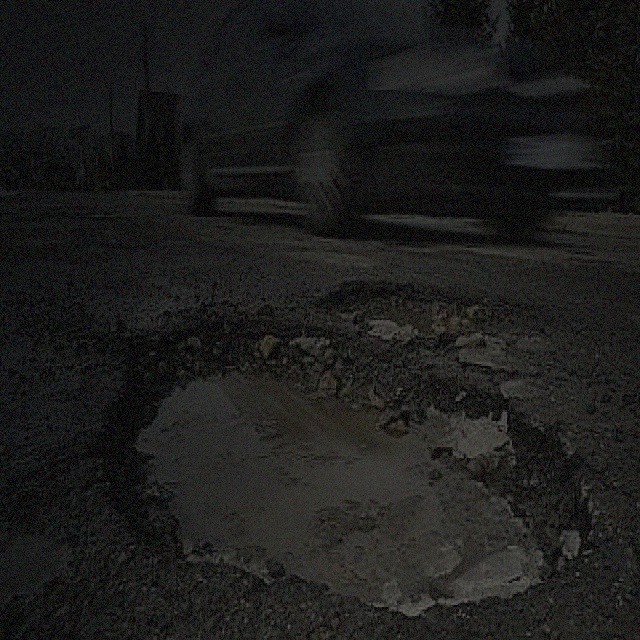pothole: (88, 307, 586, 618), (309, 270, 523, 357)
